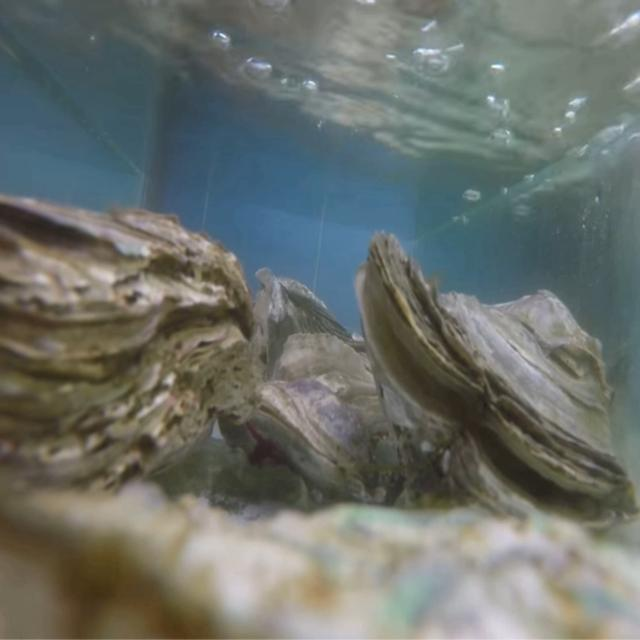Oyster-Closed: (0, 194, 256, 522), (246, 334, 410, 507)
Oyster-Indeterminate: (0, 482, 640, 640), (254, 261, 370, 377)
Oyster-Open: (355, 230, 640, 540)
